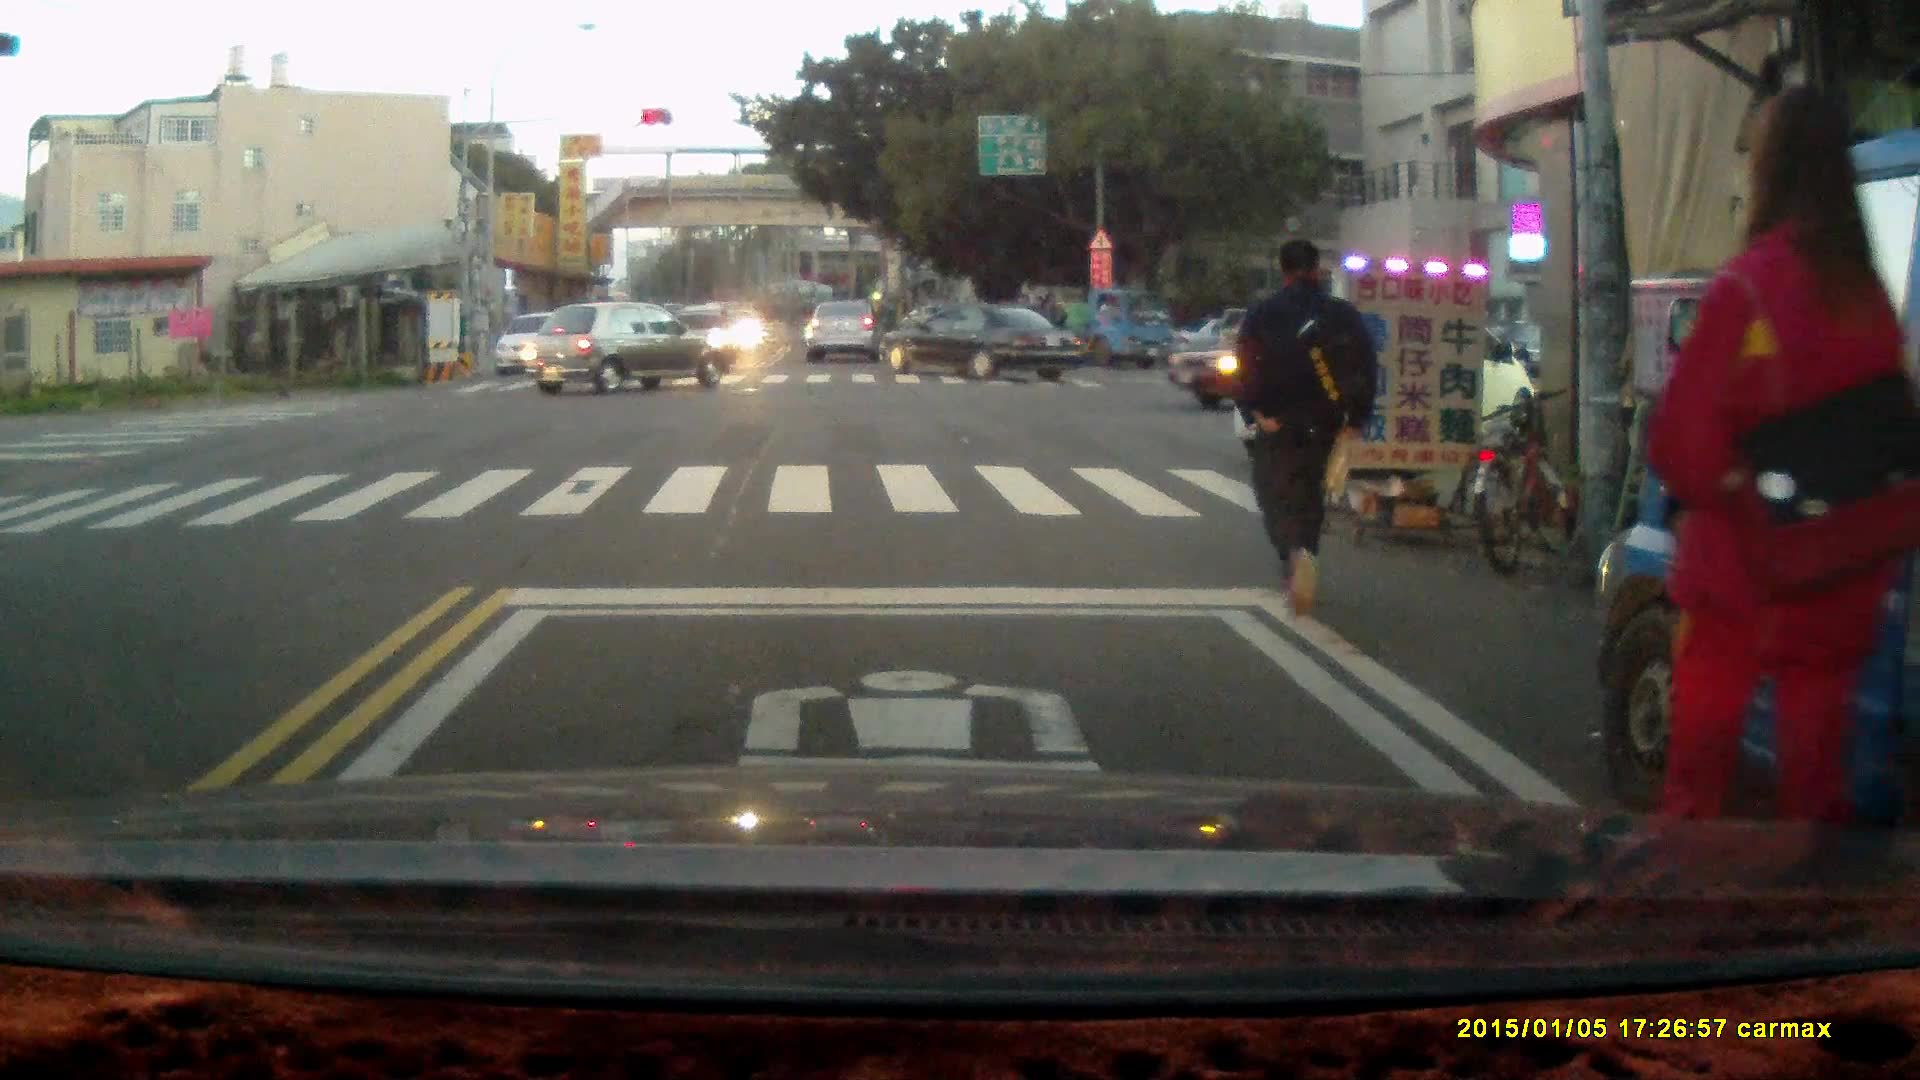pedestrian: (1636, 80, 1920, 861), (1221, 233, 1379, 616), (1038, 287, 1067, 365)
vehicle: (1598, 132, 1920, 853), (1233, 296, 1533, 459), (521, 304, 735, 398), (877, 303, 1088, 380), (1002, 284, 1176, 367), (807, 302, 886, 370)
